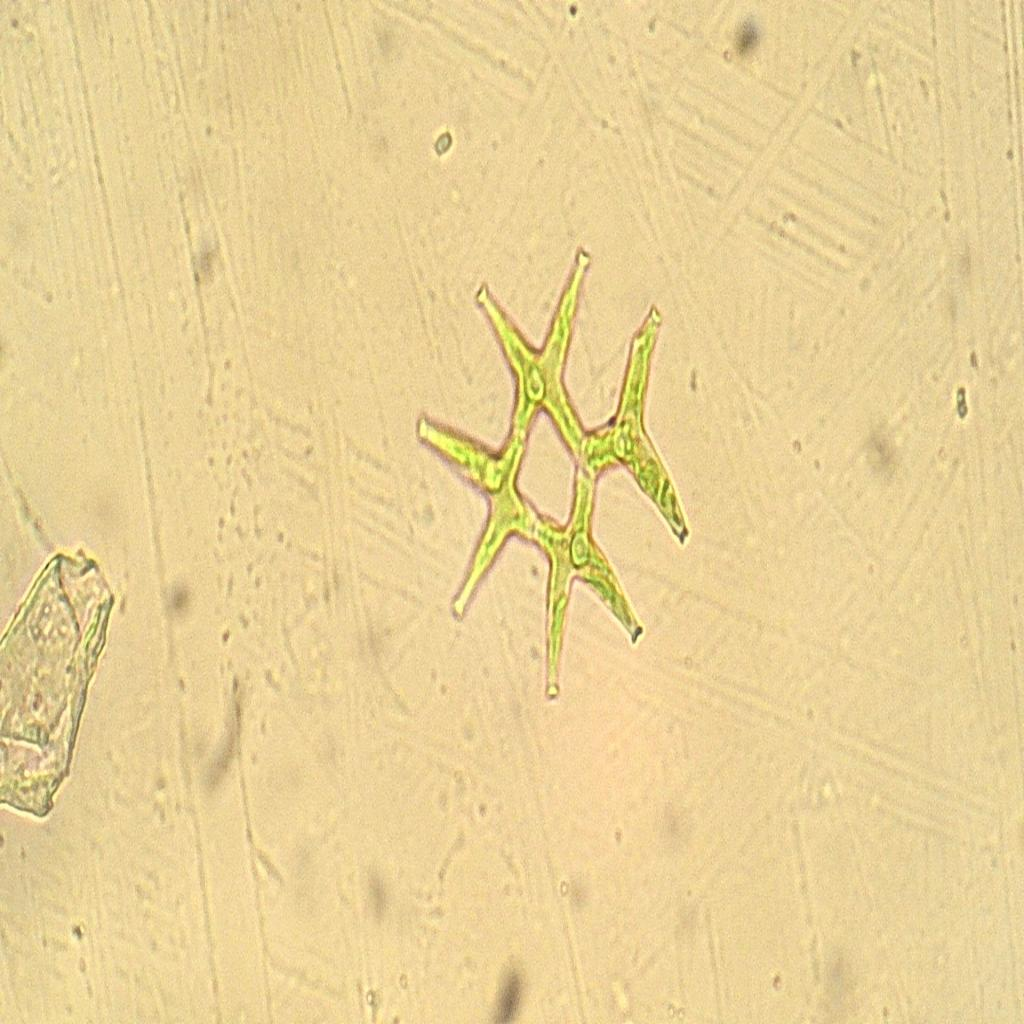Pediastrum_CT: (384, 232, 720, 718)
